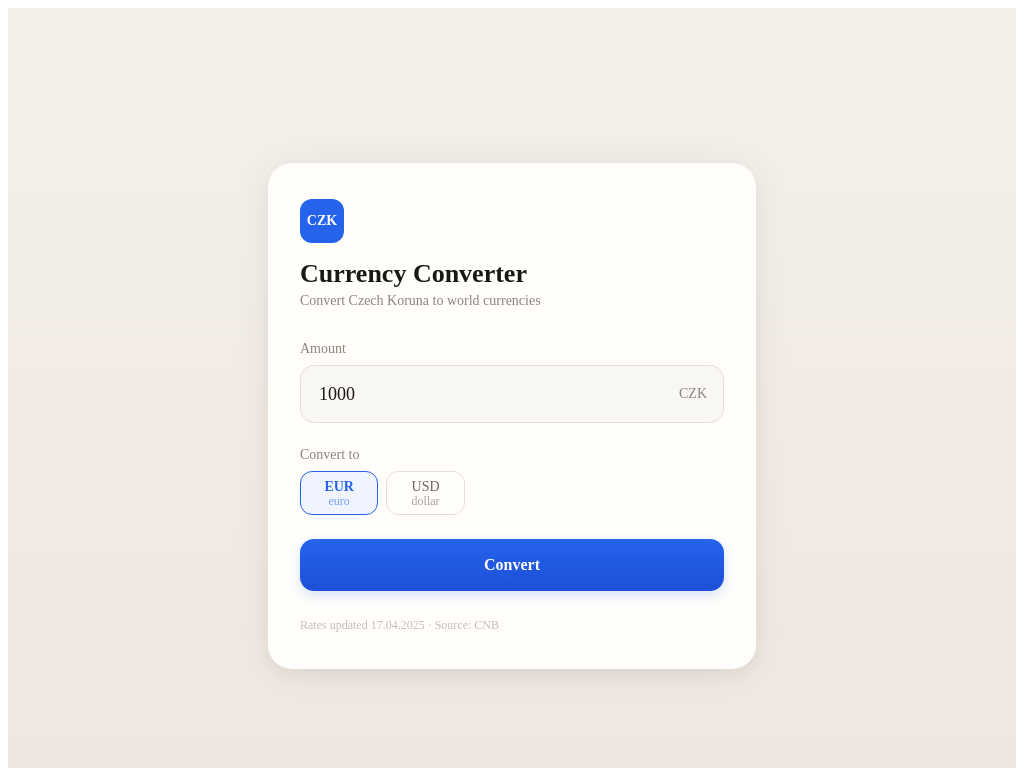
it: CurrencyConverter › converts with custom amount
The width and height of the screenshot is (1024, 768).
expect the button "EUR euro" is shown: met, box left=300, top=471, right=378, bottom=515
Replace the text in the field with placeholder "Enter amount" with "500" at (494,394), box left=317, top=382, right=671, bottom=406
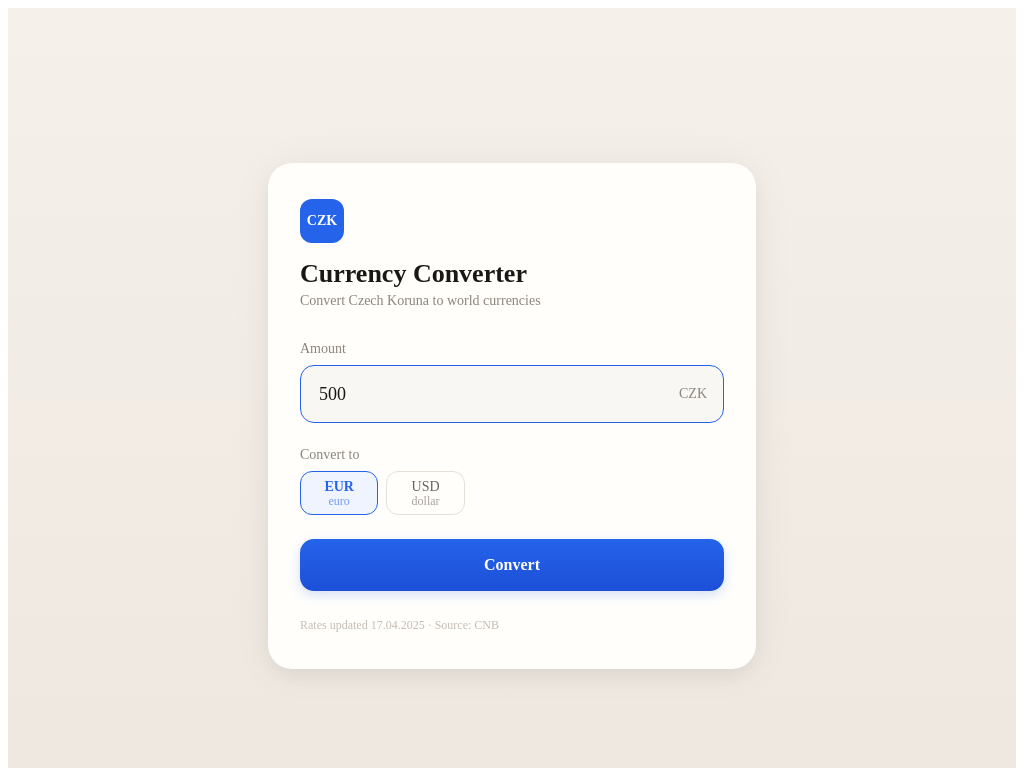
Click the button "Convert".
click(512, 565)  # box left=300, top=539, right=724, bottom=591
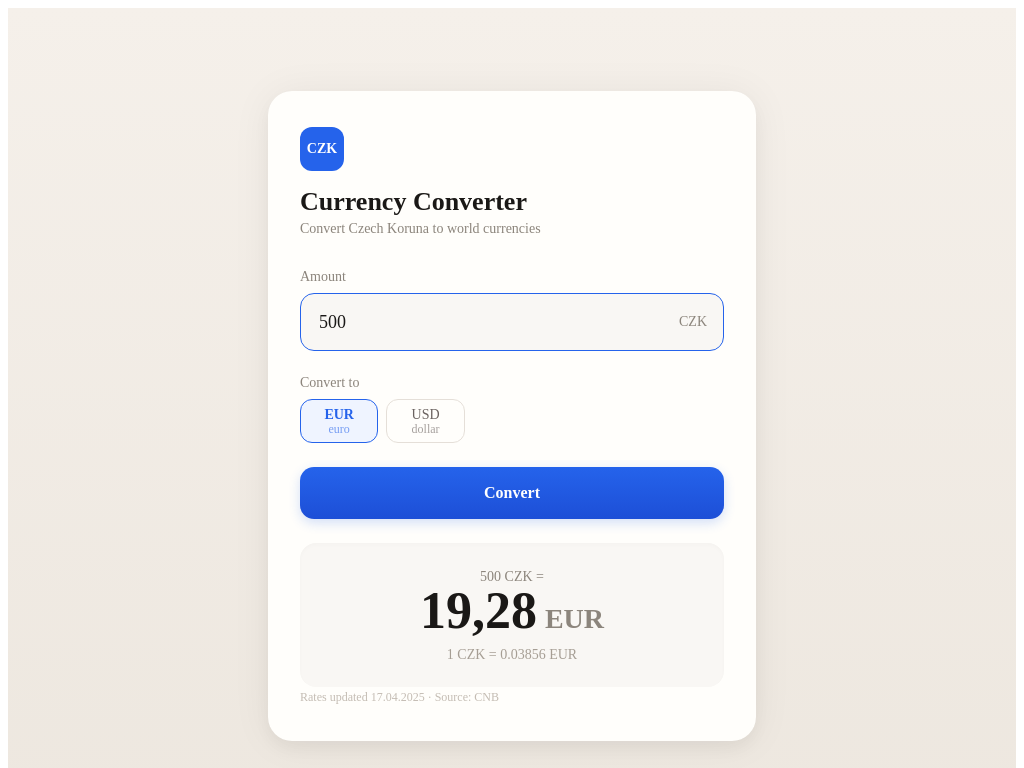
expect the text "19,28" is shown: met, box left=420, top=585, right=537, bottom=637
